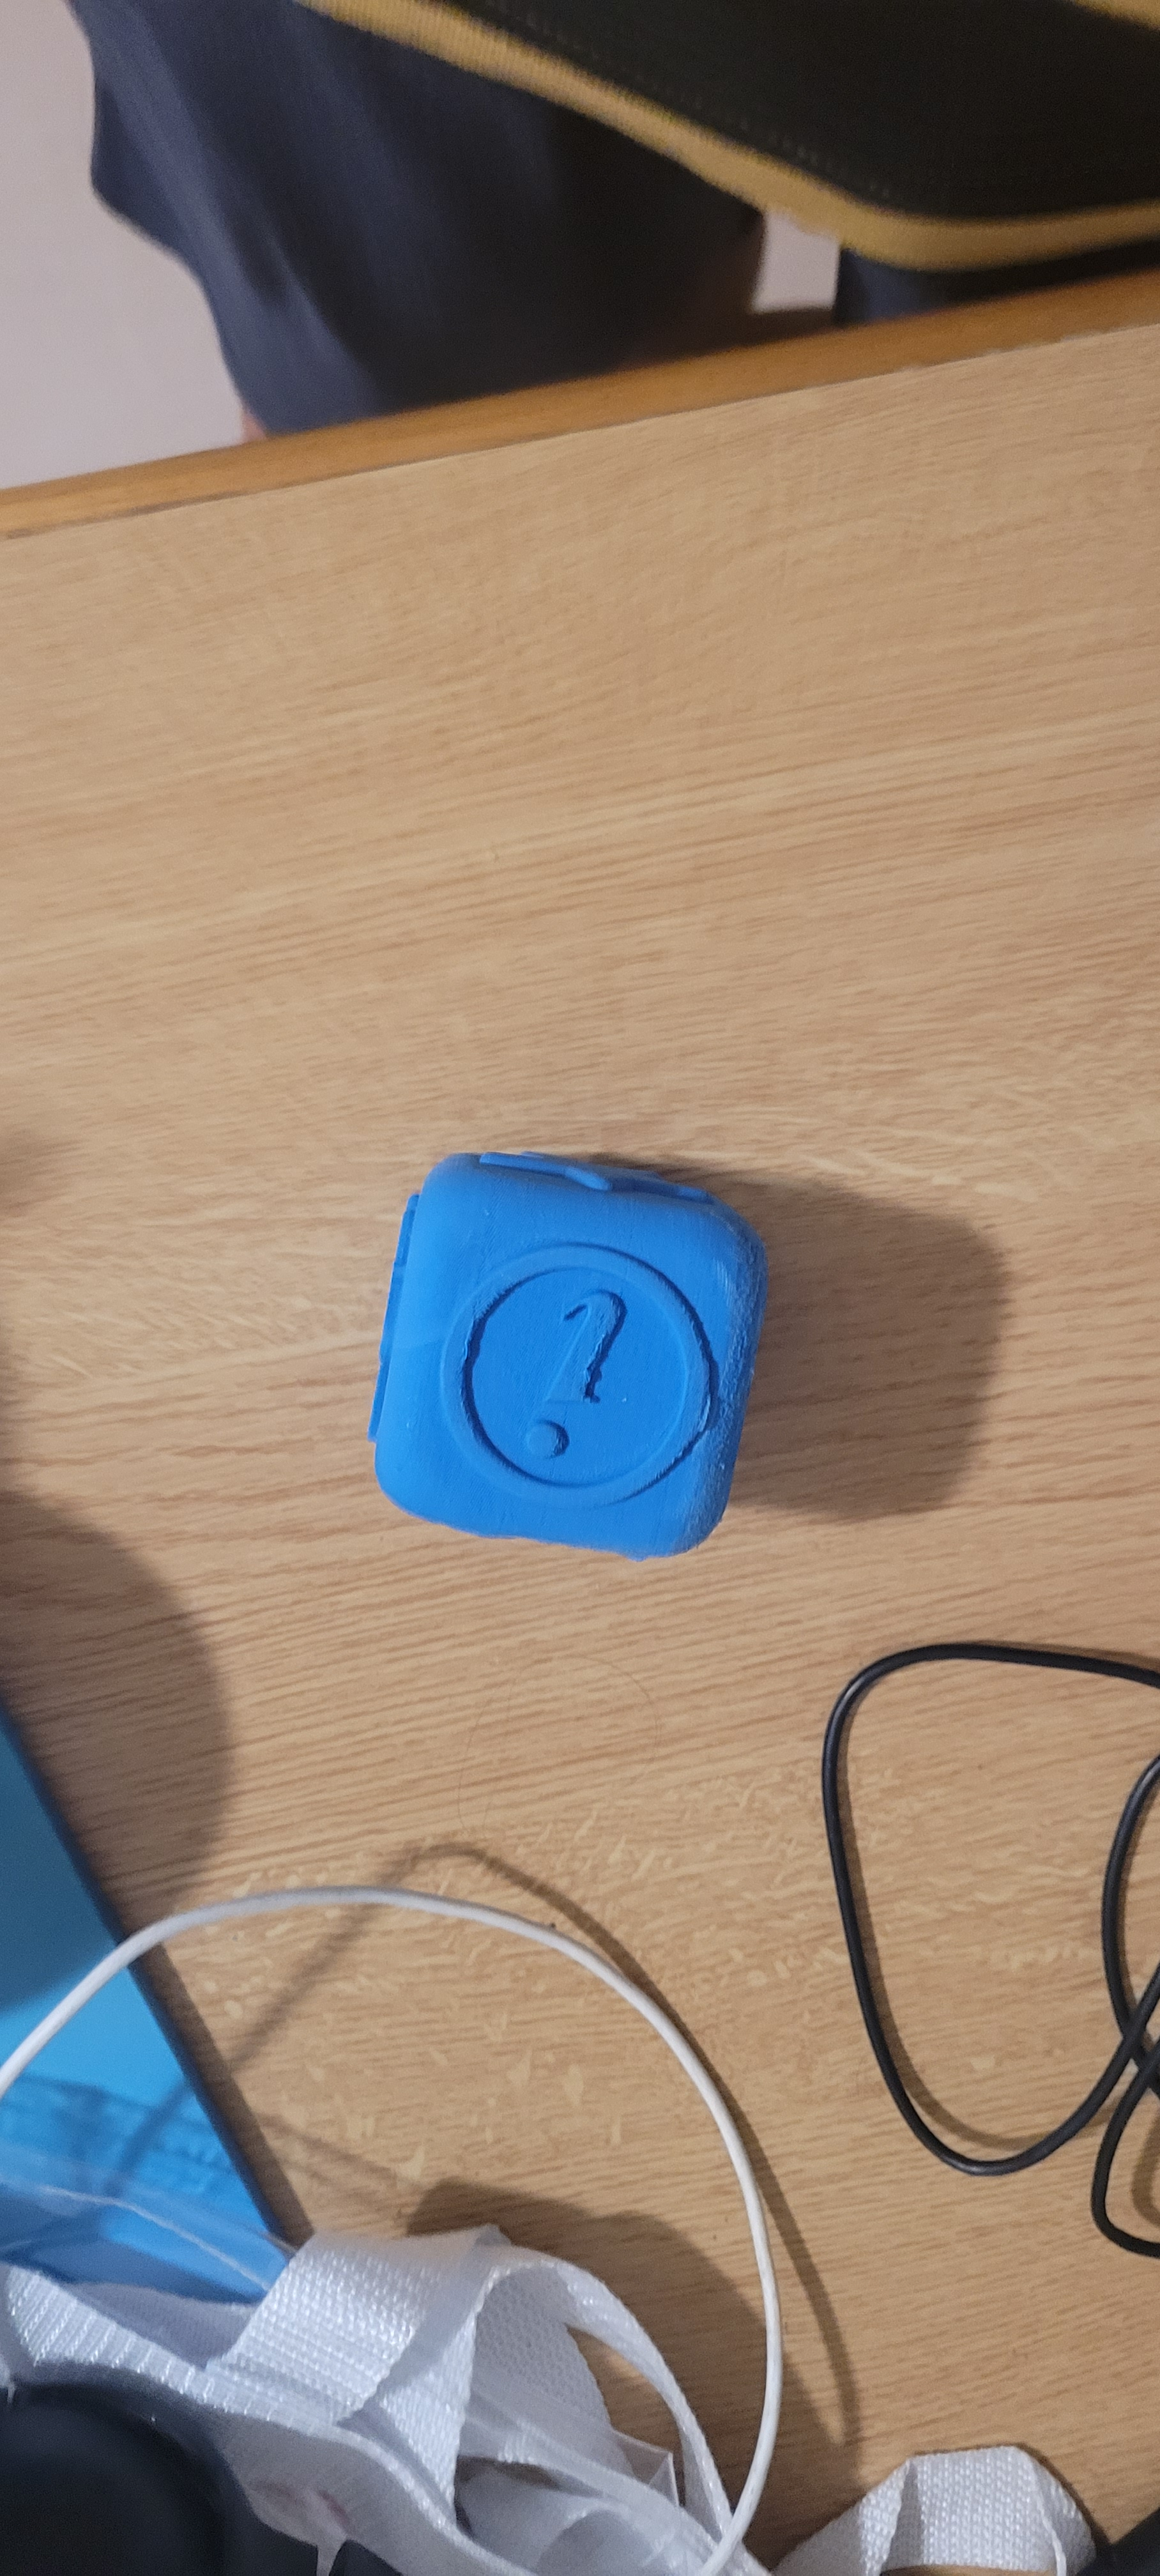Info: (450, 1199, 728, 1506)
